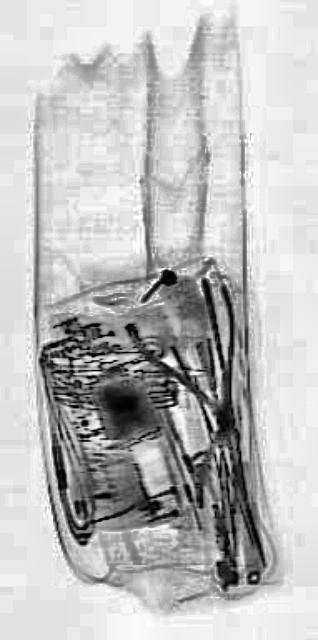Pliers: (121, 251, 259, 504)
